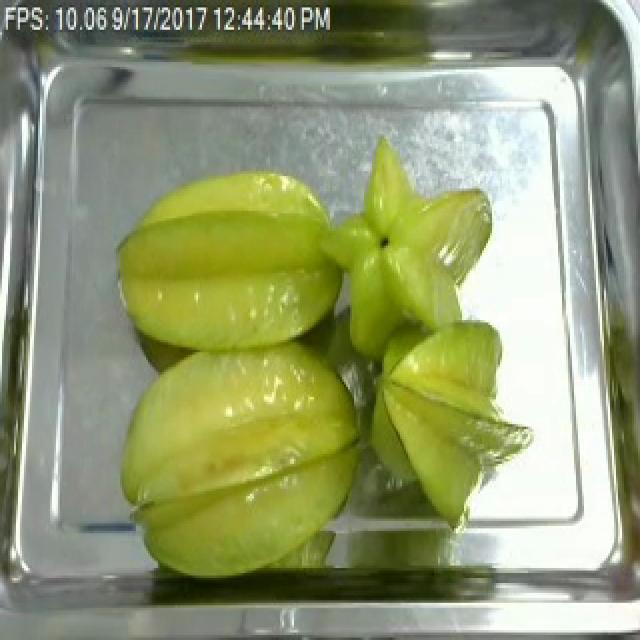fruit: (104, 328, 374, 596), (104, 161, 354, 362), (366, 310, 542, 538)
